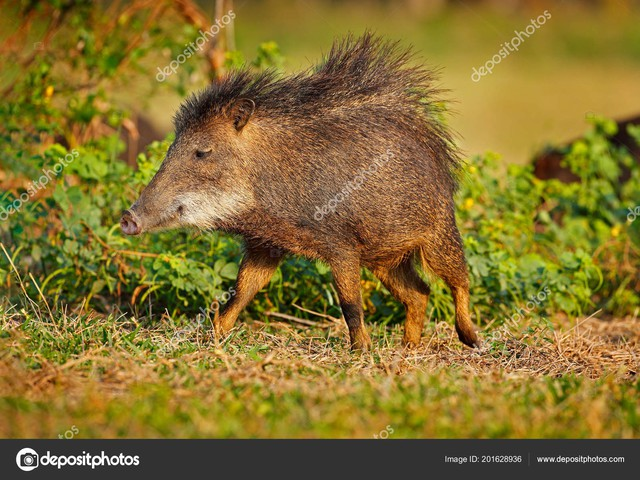Pig: (118, 42, 495, 347)
